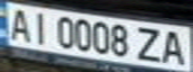0: (51, 14, 75, 50), (90, 19, 112, 56), (72, 16, 93, 53)
8: (109, 20, 133, 60)
A: (157, 27, 190, 66), (3, 6, 36, 42)
I: (27, 9, 54, 45)
Z: (133, 25, 166, 63)
